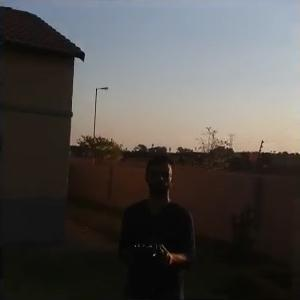follow: (114, 150, 197, 298)
